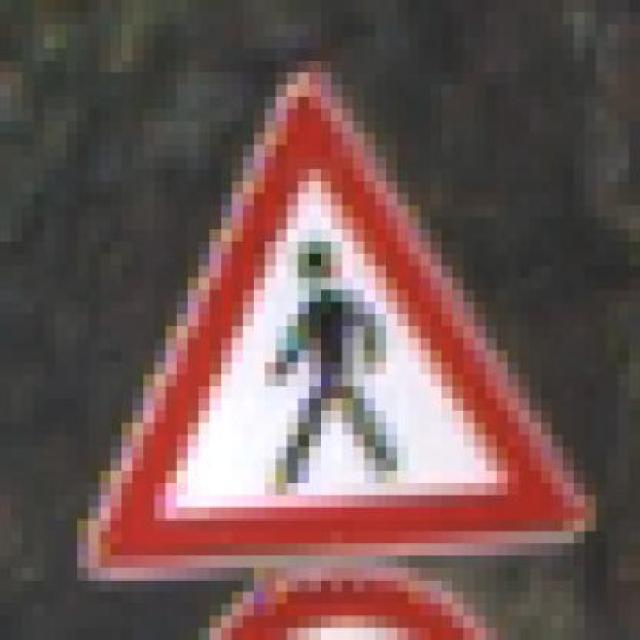Pedestrian Crossing: (67, 60, 598, 592)
